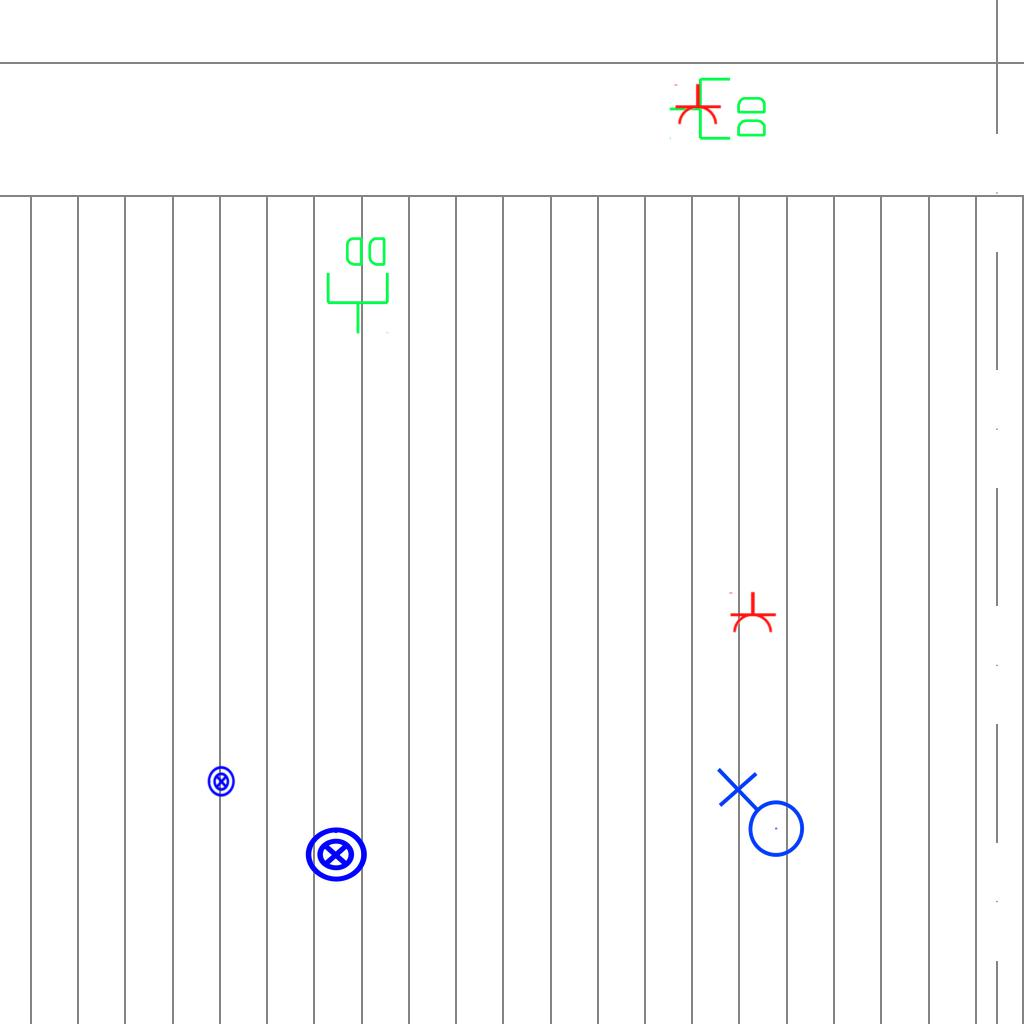Datenanschluss_zweifach: (324, 233, 393, 336), (667, 75, 770, 144)
Elektroanschluss_allgemein_230V_Geraeteanschlussdose_230V: (712, 767, 806, 866)
Schukosteckdose_einfach: (727, 591, 777, 634), (672, 83, 722, 126)
Taster_beleuchtet: (303, 822, 369, 888), (205, 765, 238, 798)
